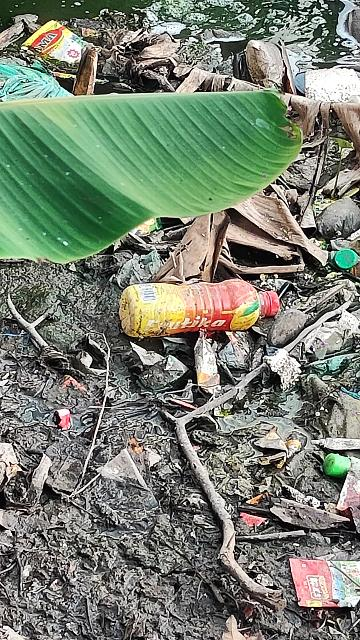bottle: (118, 281, 283, 340)
